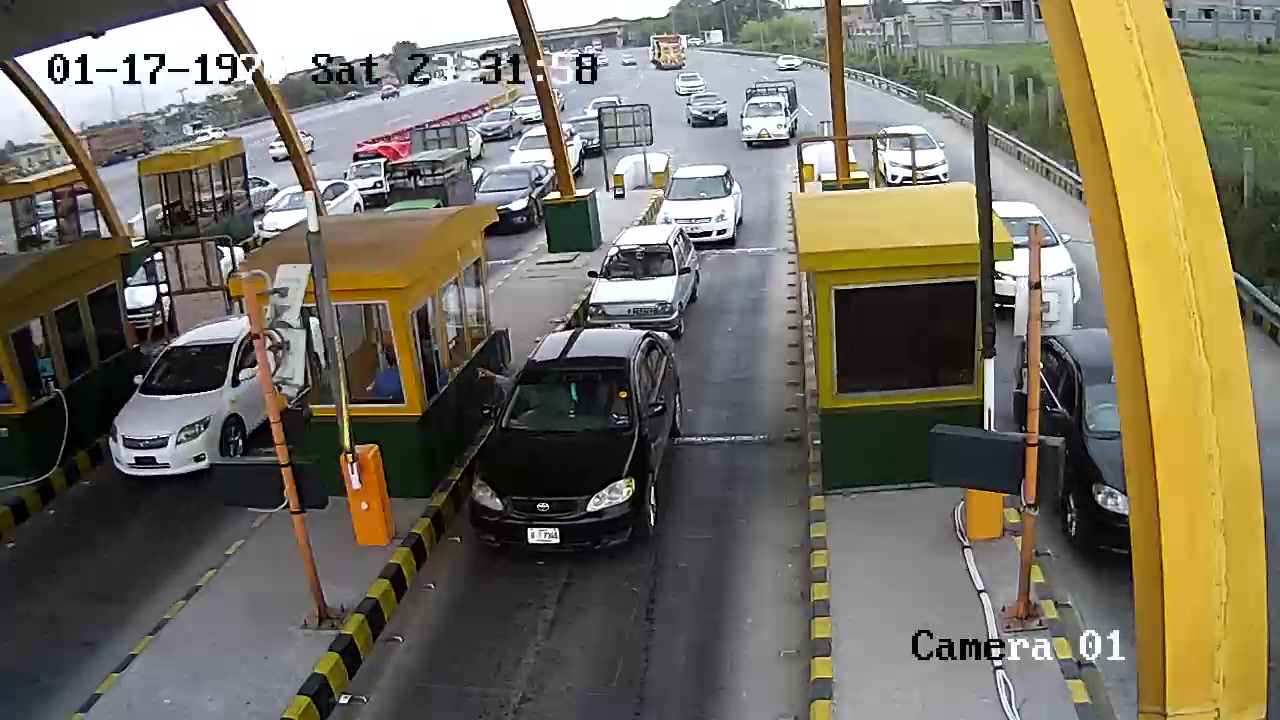F1: (471, 329, 703, 555), (571, 226, 718, 333)
